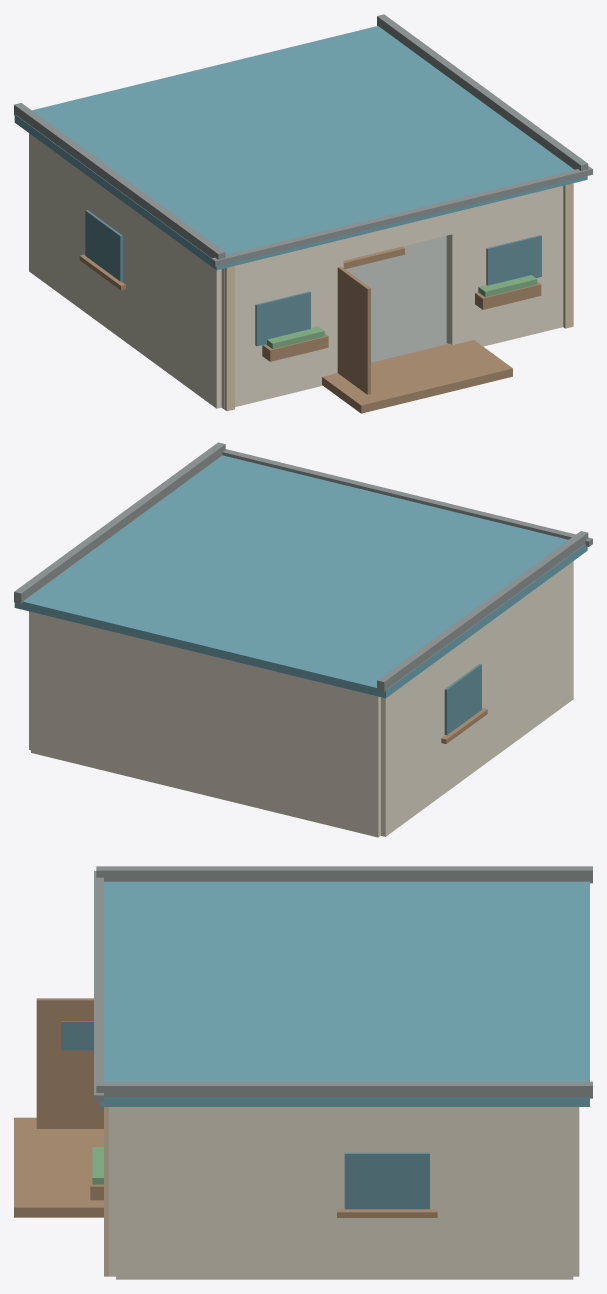
File: renovated_home.glb
3 views of the same model, one above another, from view 1: azimuth 30°, elevation 25°; view 2: azimuth 150°, elevation 25°; view 3: azimuth 270°, elevation 25° (orthographic). The views are drawn at different scales.
Visible parts, largest first — view 1: roof deck, WALL_side masonry, WALL_entrance pier.001, WALL_entrance pier, FLOOR_repaired slab, porch landing, front rain gutter, repaired front door swung open, roof edge, roof edge.001, WALL_door lintel, window left (+9 smaller); view 2: roof deck, WALL_rear masonry, WALL_side masonry, roof edge, roof edge.001, front rain gutter, side reused window; view 3: roof deck, WALL_side masonry.001, roof edge, roof edge.001, porch landing, repaired front door swung open, side reused window.001, front rain gutter, WALL_entrance pier.001, WALL_rear masonry, door window, side window sill.001 (+1 smaller).
Boxes of the visible parts, bbox=[...] form: roof deck: bbox=[14, 26, 587, 270]; WALL_side masonry: bbox=[29, 133, 221, 408]; WALL_entrance pier.001: bbox=[446, 186, 563, 346]; WALL_entrance pier: bbox=[221, 239, 343, 409]; FLOOR_repaired slab: bbox=[345, 235, 447, 362]; porch landing: bbox=[322, 340, 512, 413]; front rain gutter: bbox=[211, 166, 592, 266]; repaired front door swung open: bbox=[337, 266, 370, 394]; roof edge: bbox=[14, 103, 225, 259]; roof edge.001: bbox=[377, 14, 588, 170]; WALL_door lintel: bbox=[343, 213, 452, 260]; window left: bbox=[255, 291, 310, 346]; roof deck: bbox=[14, 455, 587, 698]; WALL_rear masonry: bbox=[31, 612, 380, 837]; WALL_side masonry: bbox=[381, 561, 573, 836]; roof edge: bbox=[377, 531, 588, 692]; roof edge.001: bbox=[14, 442, 225, 603]; front rain gutter: bbox=[222, 449, 592, 546]; side reused window: bbox=[444, 663, 481, 735]; roof deck: bbox=[99, 881, 589, 1106]; WALL_side masonry.001: bbox=[116, 1107, 573, 1279]; roof edge: bbox=[96, 866, 592, 883]; roof edge.001: bbox=[96, 1081, 592, 1098]; porch landing: bbox=[14, 1117, 103, 1217]; repaired front door swung open: bbox=[36, 998, 103, 1128]; side reused window.001: bbox=[344, 1152, 429, 1209]; front rain gutter: bbox=[94, 871, 103, 1101]; WALL_entrance pier.001: bbox=[109, 1107, 115, 1276]; WALL_rear masonry: bbox=[573, 1107, 579, 1276]; door window: bbox=[61, 1021, 93, 1050]; side window sill.001: bbox=[337, 1209, 437, 1217].
Bounding box in the file's own units: 8.7 × 3.58 × 9.5.
